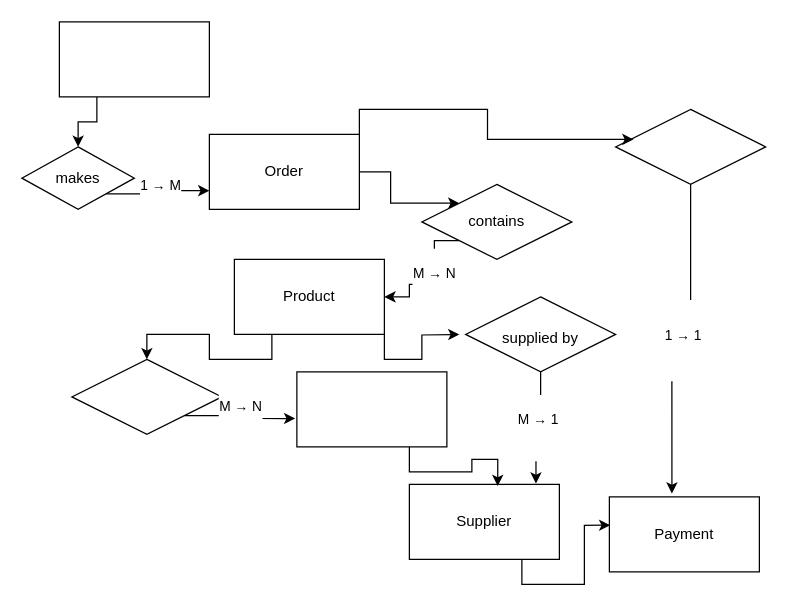
This 788x616 diagram has some shape labels left out. Each missing label, with the box of its shape:
belongs to: (71, 358, 222, 434)
Category: (296, 371, 447, 447)
Customer: (58, 21, 209, 97)
has: (614, 108, 766, 184)
